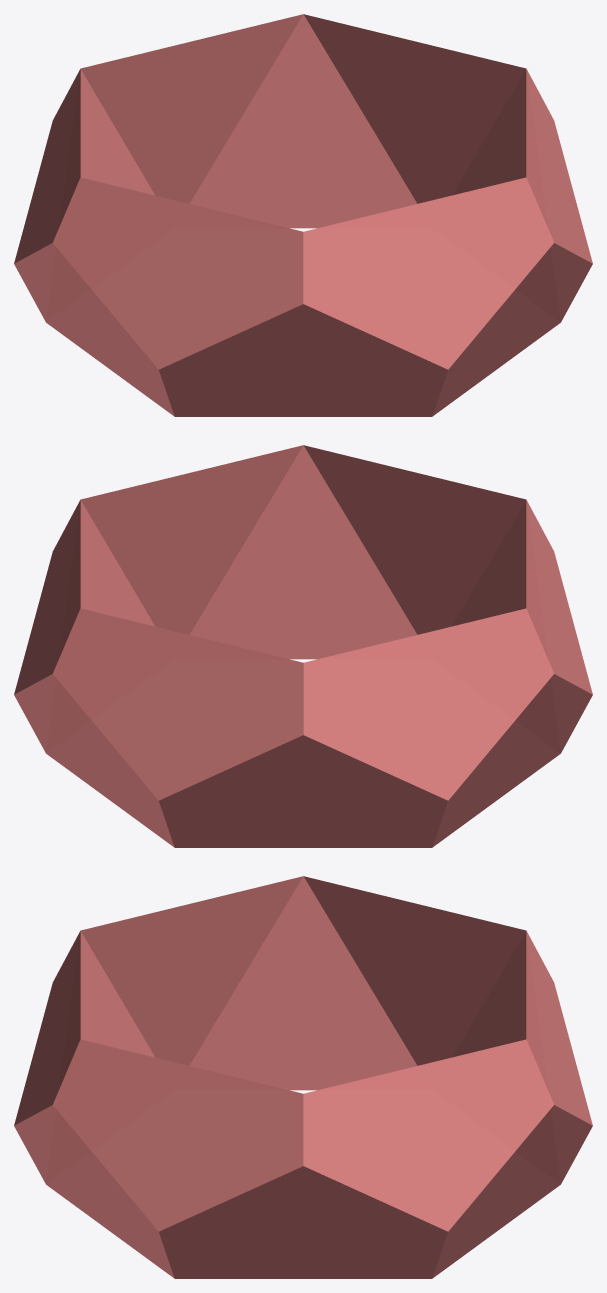
Rendered from fractalhexagonaltrapezohedronantiprismtoroid0.glb.
3 views of the same model, one above another, from view 1: azimuth 30°, elevation 25°; view 2: azimuth 150°, elevation 25°; view 3: azimuth 270°, elevation 25° (orthographic).
Bounding box in the file's own units: 9.64 × 3.67 × 9.64.
